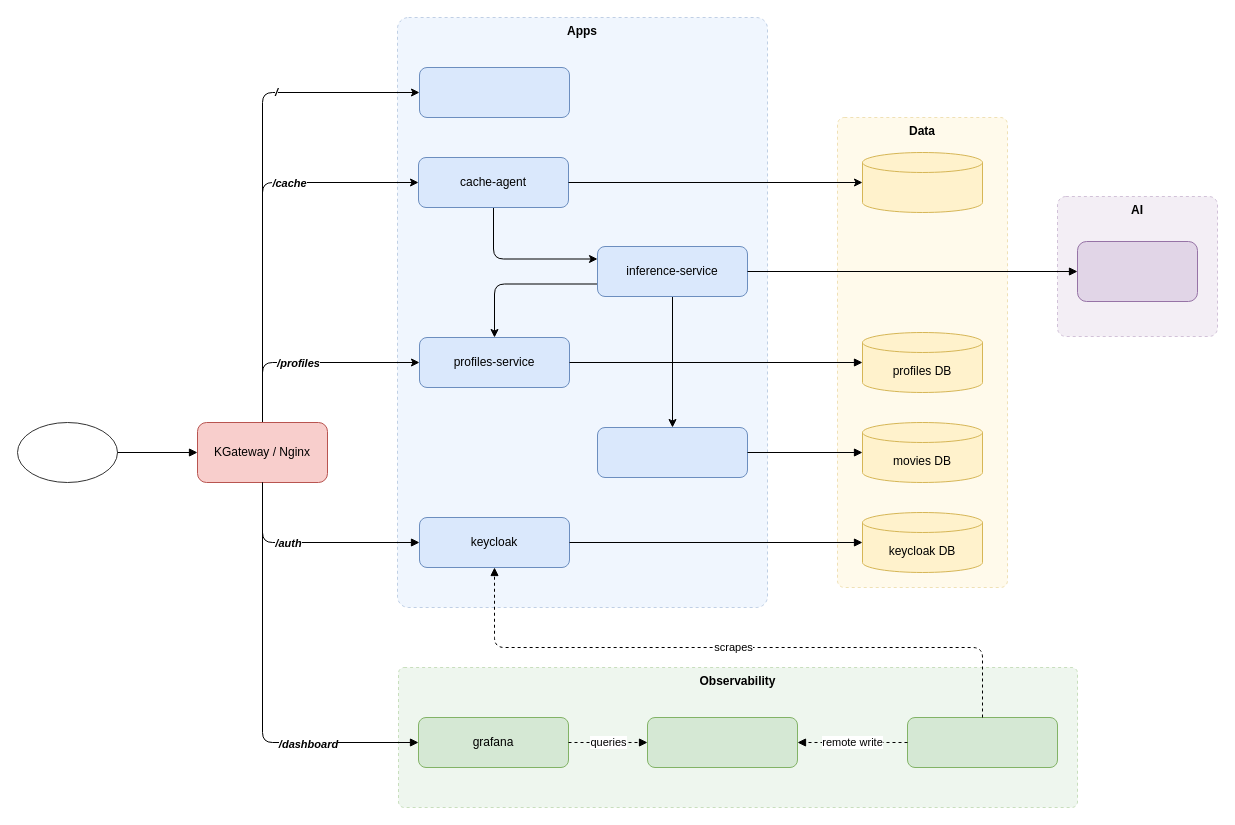
Some shapes in this 1235 by 825 pixel diagram are drawn without their labels. The shapes that lost their labels are listed below. From the top down, each one's centre as x and y in pixels, then its label:
At [494,92]: "frontend".
At [922,182]: "cache REDIS".
At [1137,271]: "ollama".
At [67,452]: "Browser".
At [672,452]: "movies-service".
At [722,742]: "mimir".
At [982,742]: "otel-collector".
